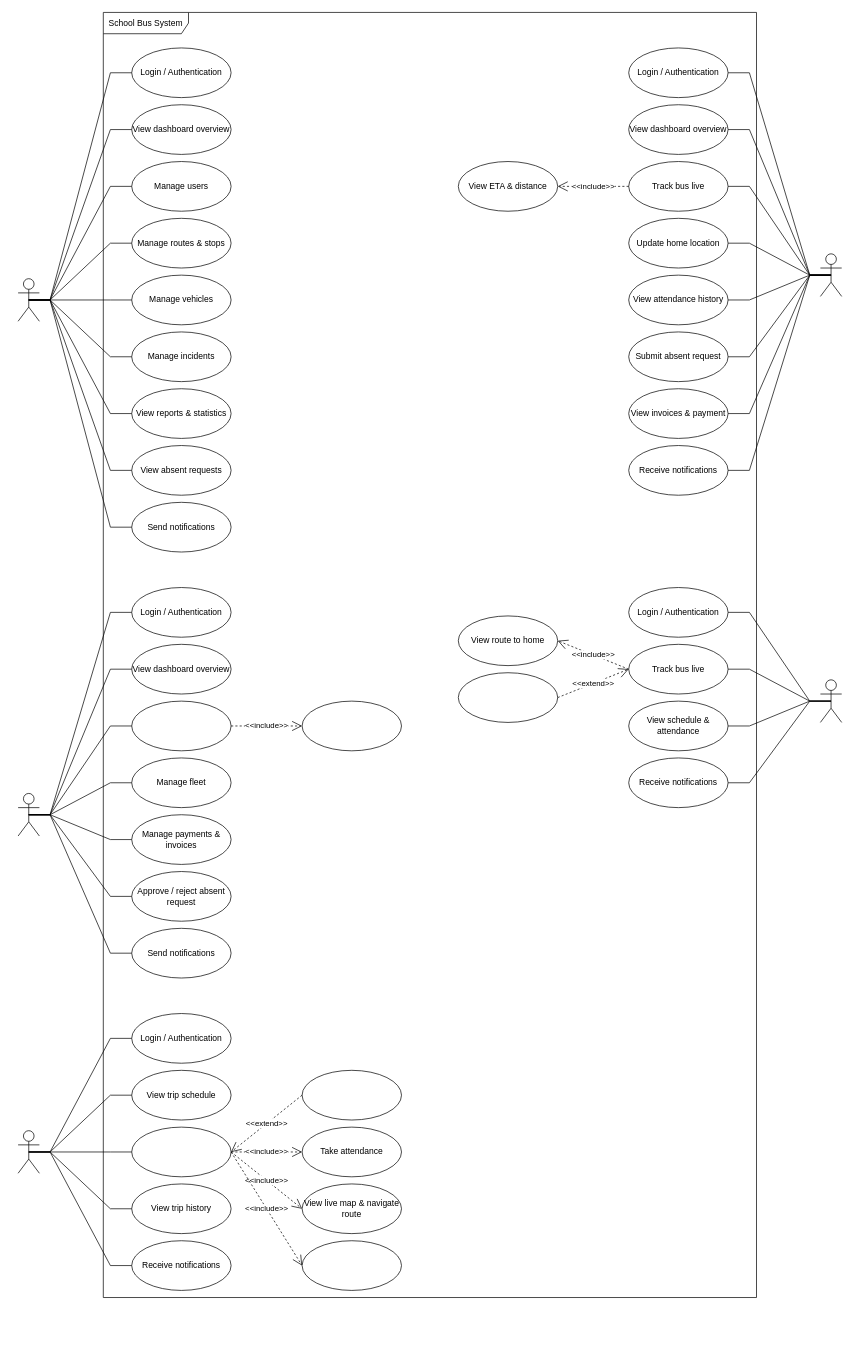
Image size: 858x1360. Some labels were removed from this diagram. Each missing label, with the box of its shape:
Admin: (17, 278, 39, 321)
Assign driver & vehicle: (301, 700, 402, 751)
Contact driver: (458, 672, 558, 722)
Driver: (17, 1130, 39, 1173)
End trip: (301, 1240, 402, 1290)
Manage active trip: (131, 1126, 231, 1177)
Manage trips: (131, 700, 231, 751)
Manager: (17, 793, 39, 836)
Parent: (820, 253, 842, 296)
Report incident (SOS): (301, 1070, 402, 1120)
Student: (820, 679, 842, 722)
